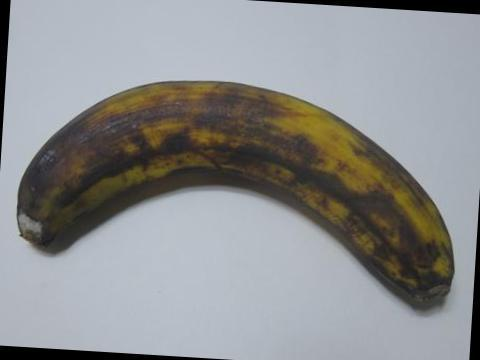overripe: (11, 49, 470, 335)
